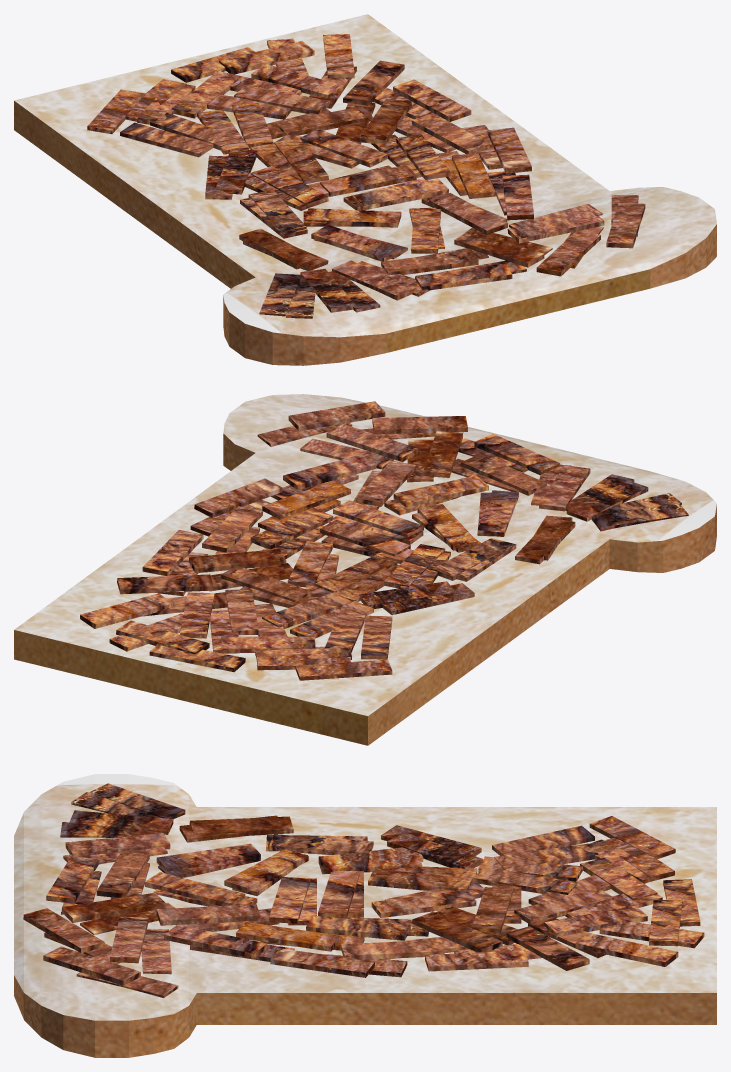
Rendered from bammetje kebabtrue.fbx.
3 views of the same model, one above another, from view 1: azimuth 30°, elevation 25°; view 2: azimuth 150°, elevation 25°; view 3: azimuth 270°, elevation 25° (orthographic). The views are drawn at different scales.
Visible parts, largest first — view 1: Cube; view 2: Cube; view 3: Cube.
Part boxes in pixels (box(x1,y1,x2,y2)): Cube: box(14, 14, 716, 365); Cube: box(14, 394, 716, 745); Cube: box(14, 774, 716, 1057).
Size of the model in its own units: 22.07 by 1.97 by 26.59.
